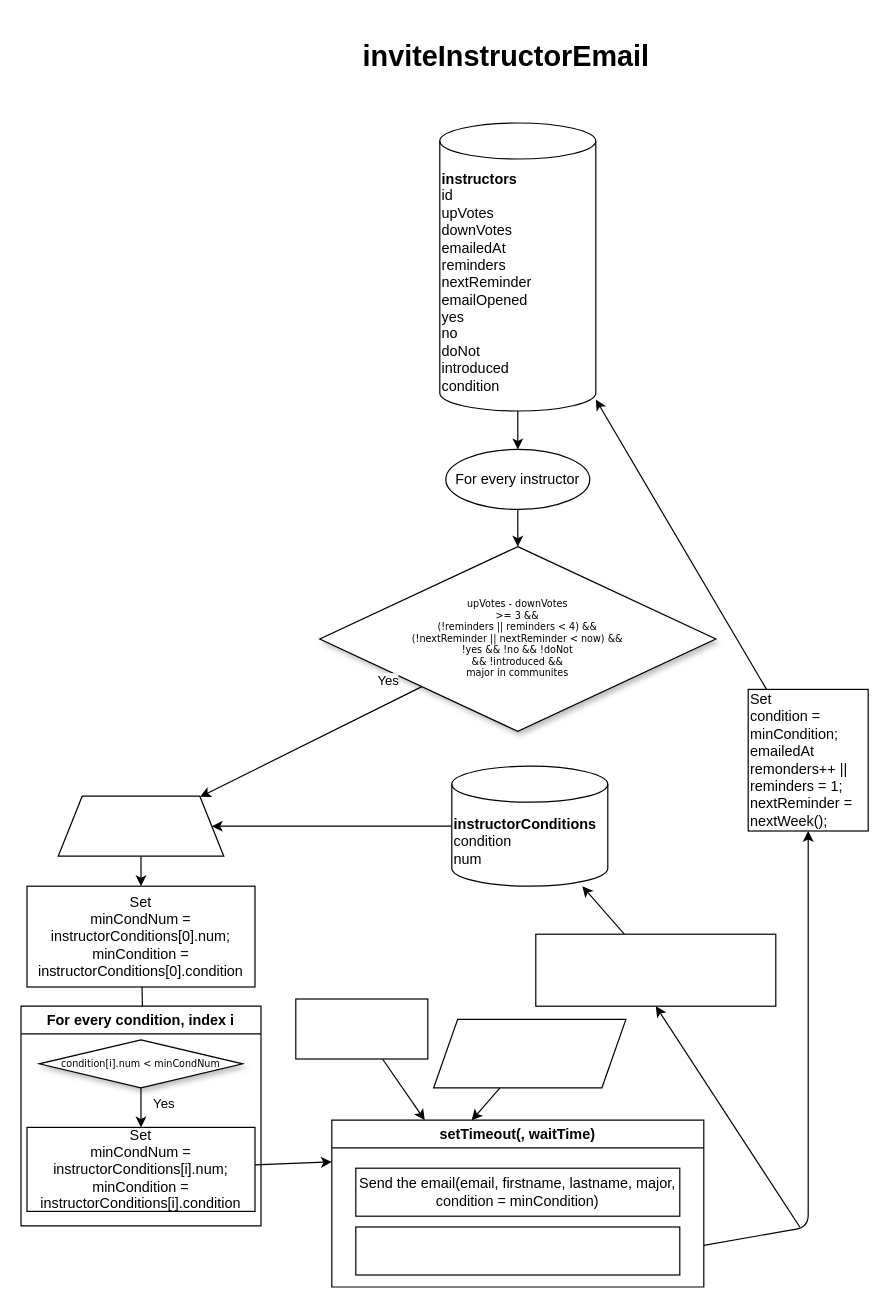
The diagram is 889 pixels wide and 1308 high, and some of its shapes have lost their labels. The shapes that lost their labels are listed below. From the top down, each one's centre as x and y in pixels, then its label:
the point at 140,825: Get all instructorConditions
the point at 655,969: Set num++ Where condition == minCondition
the point at 361,1028: Set waitTime = 0
the point at 529,1053: Our Email address Our Email Password
the point at 517,1250: waitTime += 1000 * ( 1 + Math . floor ( Math . random () * 40 ))
